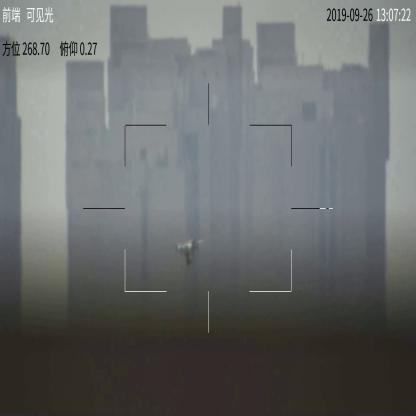uav: (171, 239, 206, 267)
